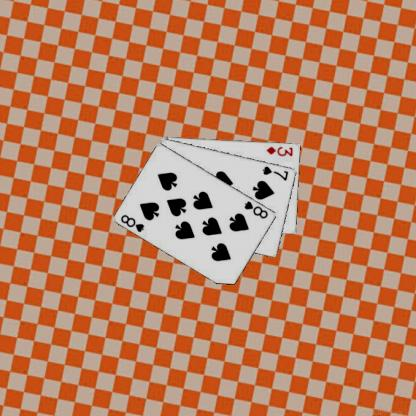3D: (264, 144, 294, 157)
7S: (260, 163, 290, 182)
8S: (242, 198, 269, 220), (118, 212, 146, 233)
